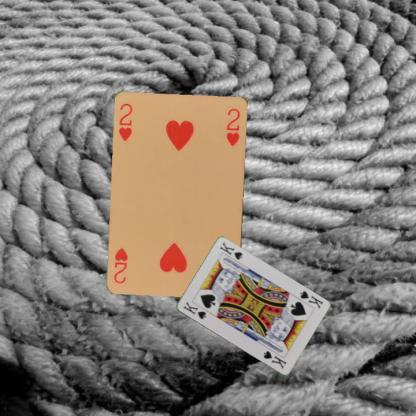2h: (116, 101, 134, 143)
Ks: (180, 298, 207, 320), (297, 288, 324, 310)
